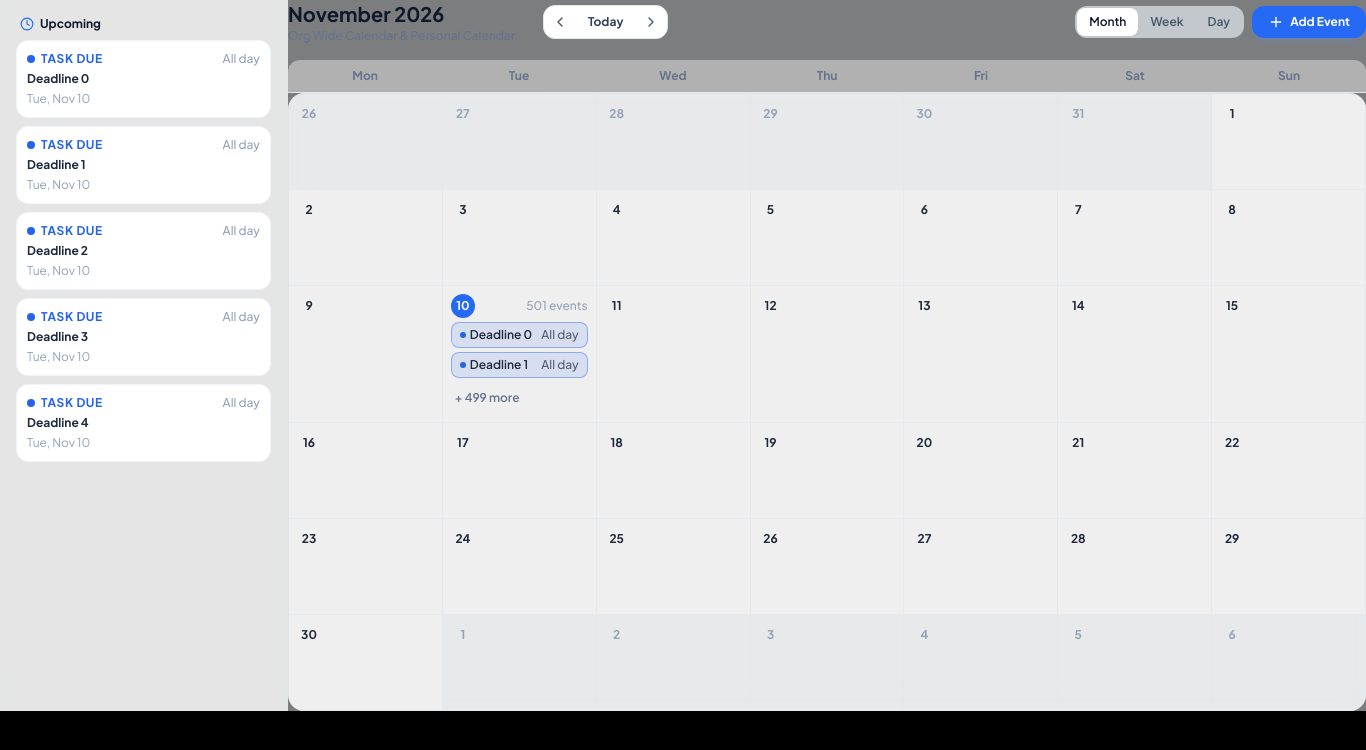
it: task deadlines in Calendar › loads beyond the first page and surfaces a query failure rather than pretending there are no deadlines
Click the button "+ 499 more" at coordinates (487, 398), box [451,382,524,414]
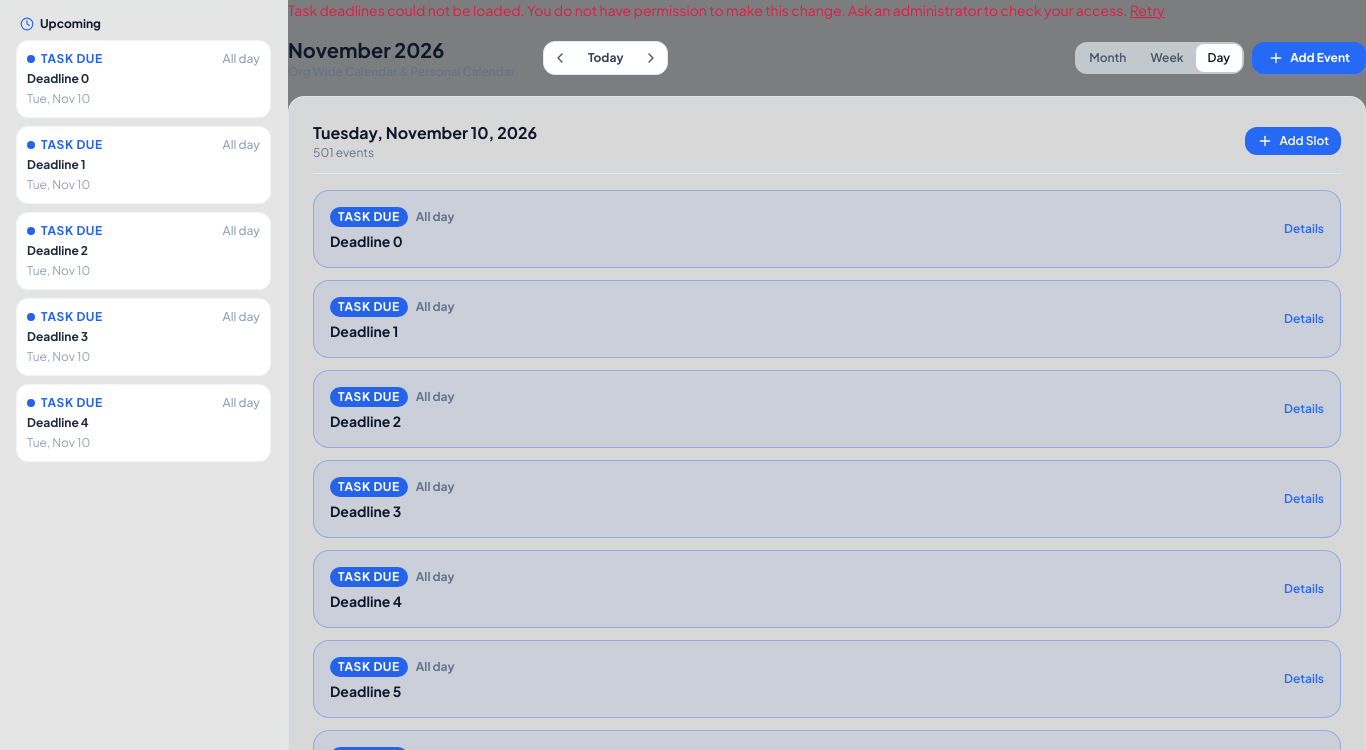
Check: the message shows "Task deadlines could not be loaded", box [288,1,1127,19]
